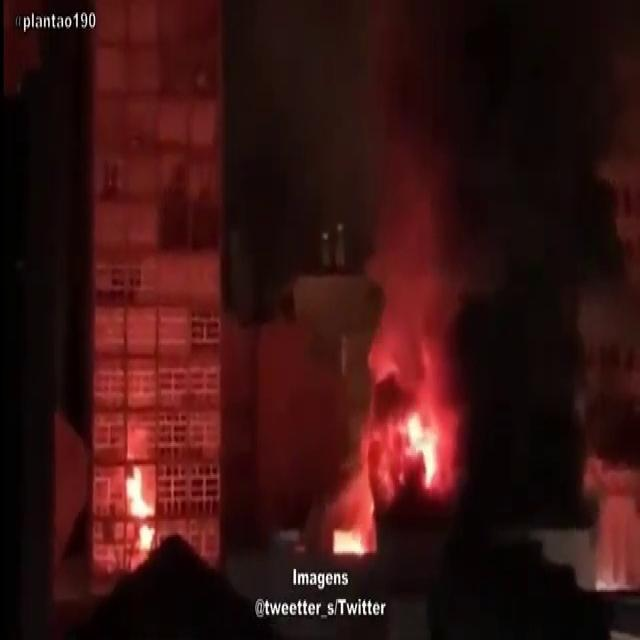Fire: (123, 468, 157, 542), (408, 410, 441, 486), (131, 468, 152, 512), (596, 572, 630, 597), (141, 528, 160, 548)
